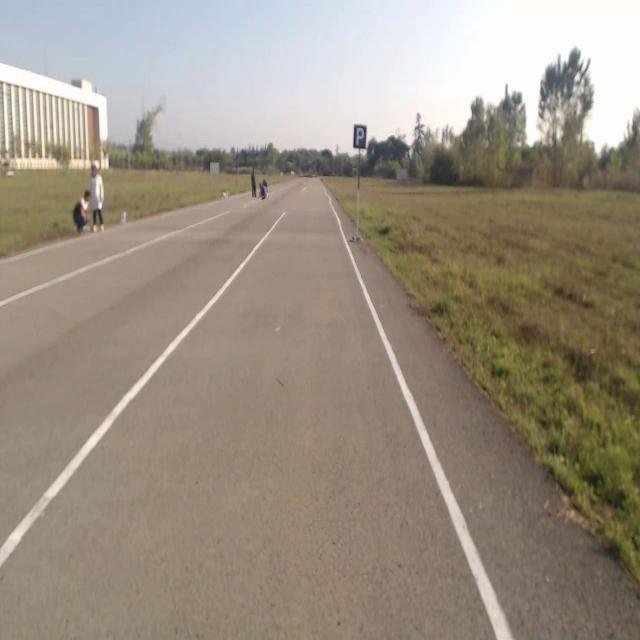park: (354, 123, 366, 148)
